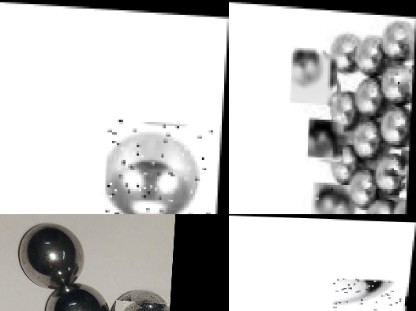ironball: (105, 115, 223, 214), (16, 222, 84, 286), (332, 277, 408, 311), (38, 280, 111, 310), (342, 158, 381, 211), (369, 144, 410, 191), (327, 27, 364, 74), (347, 117, 389, 158), (375, 98, 412, 143), (328, 84, 359, 131), (313, 178, 352, 214), (309, 116, 344, 156), (380, 22, 414, 62), (327, 139, 360, 179), (290, 48, 320, 88), (123, 288, 173, 311), (356, 71, 384, 111), (380, 61, 411, 96), (354, 38, 384, 74), (363, 190, 403, 214), (392, 152, 410, 183)
